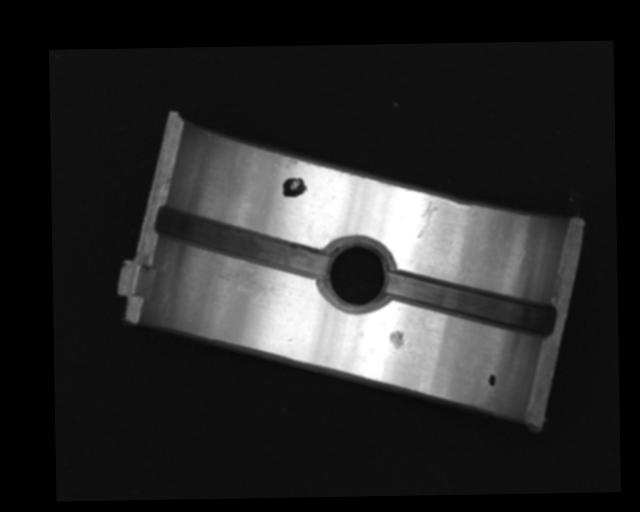blot: (280, 177, 307, 198), (486, 374, 497, 386)
bruise: (389, 329, 404, 351)
gap: (155, 205, 328, 281), (386, 274, 557, 338)
hole: (318, 238, 393, 314)
nick: (415, 196, 438, 239)
scratch: (191, 257, 268, 305)
